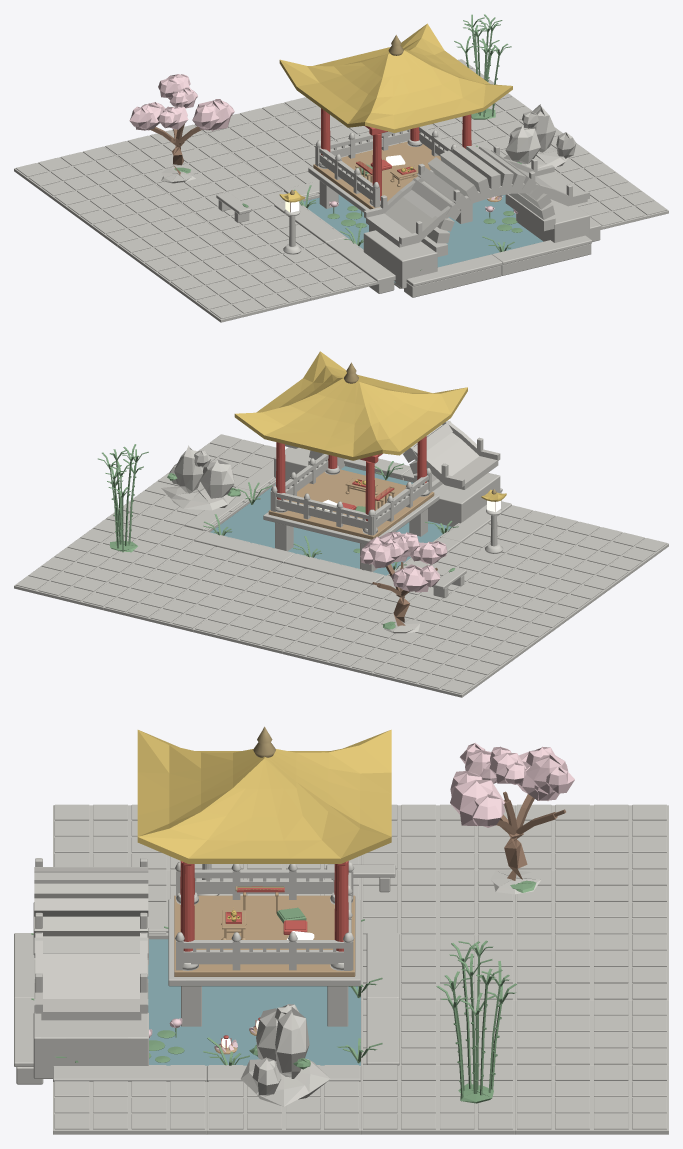
File: lotus-pavilion.glb
3 views of the same model, one above another, from view 1: azimuth 30°, elevation 25°; view 2: azimuth 150°, elevation 25°; view 3: azimuth 270°, elevation 25° (orthographic). The views are drawn at different scales.
Parts seen in each view (by area): view 1: 029-arched-stone-bridge/0, 028-water-pavilion/4, 003-courtyard-paving-module/0, 001-courtyard-paving-module/0, 002-courtyard-paving-module/0, 000-courtyard-paving-module/0, 028-water-pavilion/0, 008-courtyard-paving-module/0, 005-courtyard-paving-module/0, 004-courtyard-paving-module/0, 007-courtyard-paving-module/0, 042-plum-tree-in-blossom/3 (+20 smaller); view 2: 028-water-pavilion/4, 029-arched-stone-bridge/0, 028-water-pavilion/0, 000-courtyard-paving-module/0, 008-courtyard-paving-module/0, 010-courtyard-paving-module/0, 012-courtyard-paving-module/0, 004-courtyard-paving-module/0, 002-courtyard-paving-module/0, 001-courtyard-paving-module/0, 003-courtyard-paving-module/0, 013-courtyard-paving-module/0 (+23 smaller); view 3: 028-water-pavilion/4, 029-arched-stone-bridge/0, 028-water-pavilion/0, 012-courtyard-paving-module/0, 010-courtyard-paving-module/0, 008-courtyard-paving-module/0, 013-courtyard-paving-module/0, 004-courtyard-paving-module/0, 000-courtyard-paving-module/0, 005-courtyard-paving-module/0, 015-courtyard-paving-module/0, 028-water-pavilion/1 (+26 smaller).
Boxes of the visible parts, x1,y1,x2,y2 form: 029-arched-stone-bridge/0: [363, 145, 589, 288]; 028-water-pavilion/4: [279, 23, 512, 132]; 003-courtyard-paving-module/0: [169, 260, 310, 322]; 001-courtyard-paving-module/0: [65, 184, 206, 246]; 002-courtyard-paving-module/0: [117, 222, 257, 284]; 000-courtyard-paving-module/0: [14, 146, 154, 208]; 028-water-pavilion/0: [308, 126, 472, 231]; 008-courtyard-paving-module/0: [193, 103, 333, 162]; 005-courtyard-paving-module/0: [156, 162, 286, 222]; 004-courtyard-paving-module/0: [104, 124, 244, 184]; 007-courtyard-paving-module/0: [259, 238, 395, 300]; 042-plum-tree-in-blossom/3: [129, 74, 234, 131]; 028-water-pavilion/4: [234, 351, 467, 460]; 029-arched-stone-bridge/0: [274, 420, 500, 526]; 028-water-pavilion/0: [263, 454, 439, 571]; 000-courtyard-paving-module/0: [372, 635, 513, 697]; 008-courtyard-paving-module/0: [193, 591, 333, 653]; 010-courtyard-paving-module/0: [103, 570, 244, 631]; 012-courtyard-paving-module/0: [14, 548, 154, 610]; 004-courtyard-paving-module/0: [283, 613, 423, 675]; 002-courtyard-paving-module/0: [476, 559, 617, 621]; 001-courtyard-paving-module/0: [425, 597, 565, 659]; 003-courtyard-paving-module/0: [528, 521, 668, 583]; 013-courtyard-paving-module/0: [66, 511, 205, 569]; 028-water-pavilion/4: [137, 729, 391, 863]; 029-arched-stone-bridge/0: [33, 858, 148, 1078]; 028-water-pavilion/0: [168, 861, 360, 1026]; 012-courtyard-paving-module/0: [515, 1065, 668, 1134]; 010-courtyard-paving-module/0: [515, 1000, 668, 1065]; 008-courtyard-paving-module/0: [515, 935, 668, 1000]; 013-courtyard-paving-module/0: [361, 1065, 514, 1134]; 004-courtyard-paving-module/0: [515, 870, 668, 935]; 000-courtyard-paving-module/0: [515, 804, 668, 870]; 005-courtyard-paving-module/0: [361, 870, 514, 935]; 015-courtyard-paving-module/0: [53, 1065, 206, 1134]; 028-water-pavilion/1: [174, 895, 355, 976].
Size of the model in its own units: 20 by 7.95 by 17.01.
